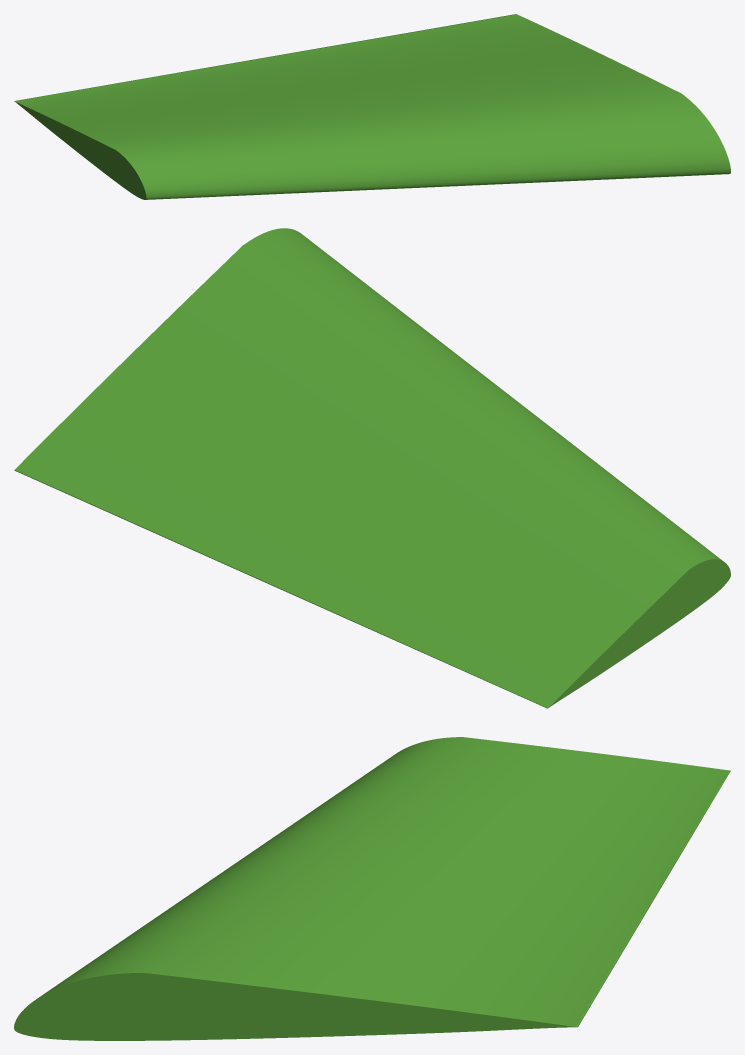
The model's file is wing_tip_right_2.dae.
3 renders of one model, top to bottom at view 1: azimuth 30°, elevation 25°; view 2: azimuth 150°, elevation 25°; view 3: azimuth 270°, elevation 25°, orthographic. The views are drawn at different scales.
Visible parts, largest first — view 1: ID2; view 2: ID2; view 3: ID2.
Boxes of the visible parts, x1,y1,x2,y2 form: ID2: (14,14,730,199); ID2: (14,228,730,708); ID2: (14,737,730,1040).
Bounding box in the file's own units: 1.72 × 1.83 × 0.2563.
